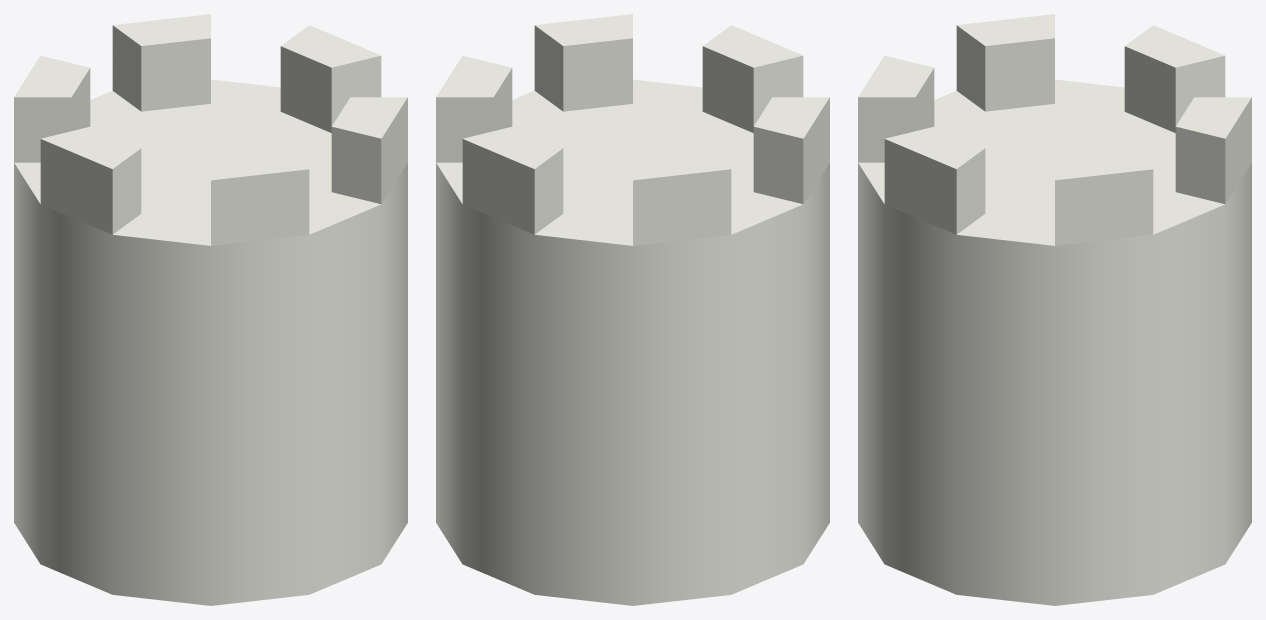
Rendered from Sand_Castle_Small.obj.
3 views of the same model, side by side, from view 1: azimuth 30°, elevation 25°; view 2: azimuth 150°, elevation 25°; view 3: azimuth 270°, elevation 25° (orthographic).
Visible parts, largest first — view 1: Sand_Castle_Small; view 2: Sand_Castle_Small; view 3: Sand_Castle_Small.
Boxes of the visible parts, x1=… form: Sand_Castle_Small: x1=14, y1=14, x2=407, y2=605; Sand_Castle_Small: x1=436, y1=14, x2=829, y2=605; Sand_Castle_Small: x1=858, y1=14, x2=1251, y2=605.
Size of the model in its own units: 0.284 by 0.3387 by 0.284.
